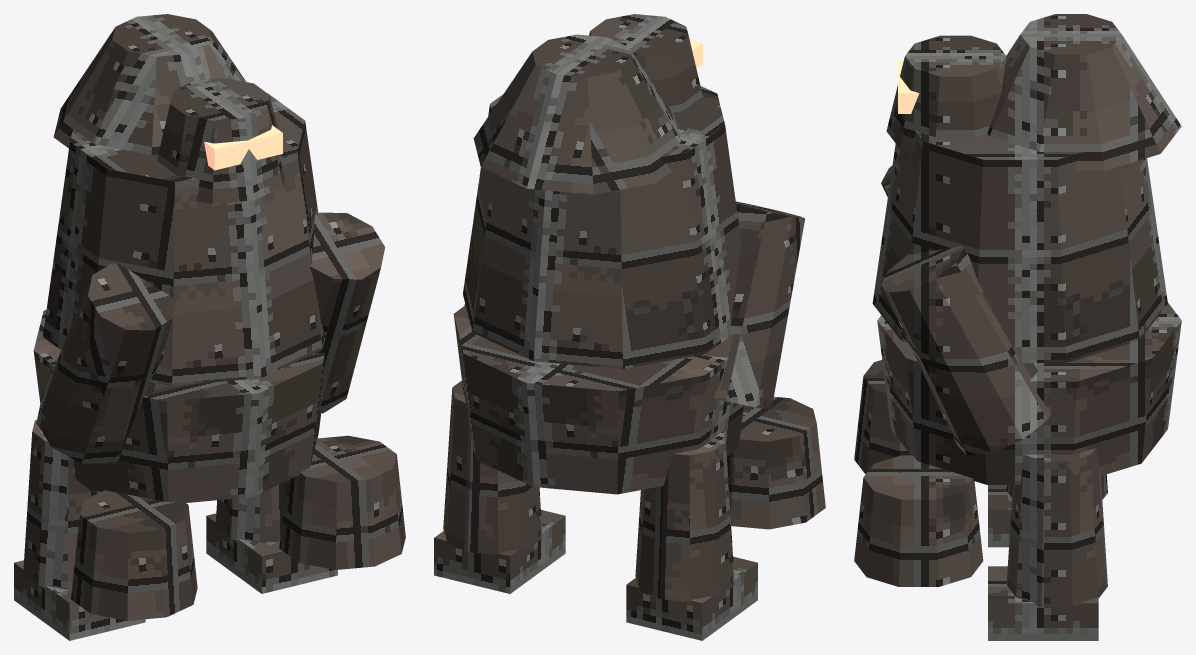
The model's file is enemy_melee_c_squat.glb.
3 views of the same model, side by side, from view 1: azimuth 30°, elevation 25°; view 2: azimuth 150°, elevation 25°; view 3: azimuth 270°, elevation 25° (orthographic).
Parts seen in each view (by area): view 1: enemy_melee_c_squat; view 2: enemy_melee_c_squat; view 3: enemy_melee_c_squat.
Boxes of the visible parts, x1=… form: enemy_melee_c_squat: x1=14, y1=14, x2=405, y2=640; enemy_melee_c_squat: x1=434, y1=14, x2=825, y2=640; enemy_melee_c_squat: x1=854, y1=14, x2=1181, y2=640.
Size of the model in its own units: 0.7863 by 1.29 by 0.71.
2 materials, 1 textured.
